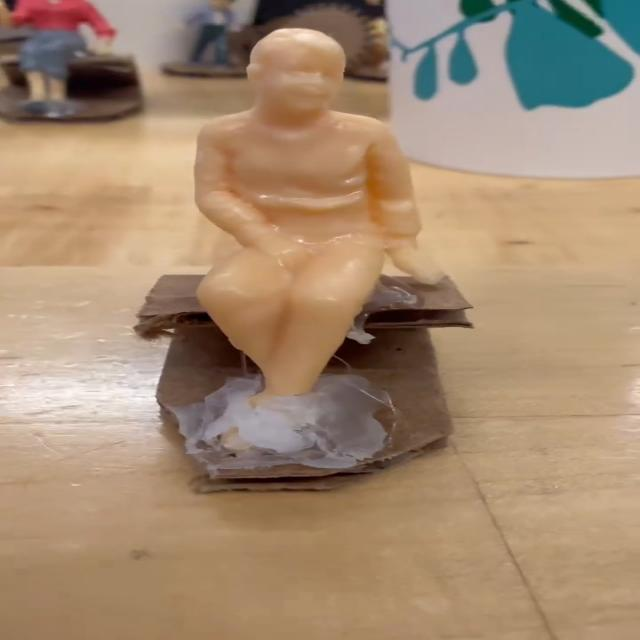Unauthorized: (173, 5, 480, 410)
